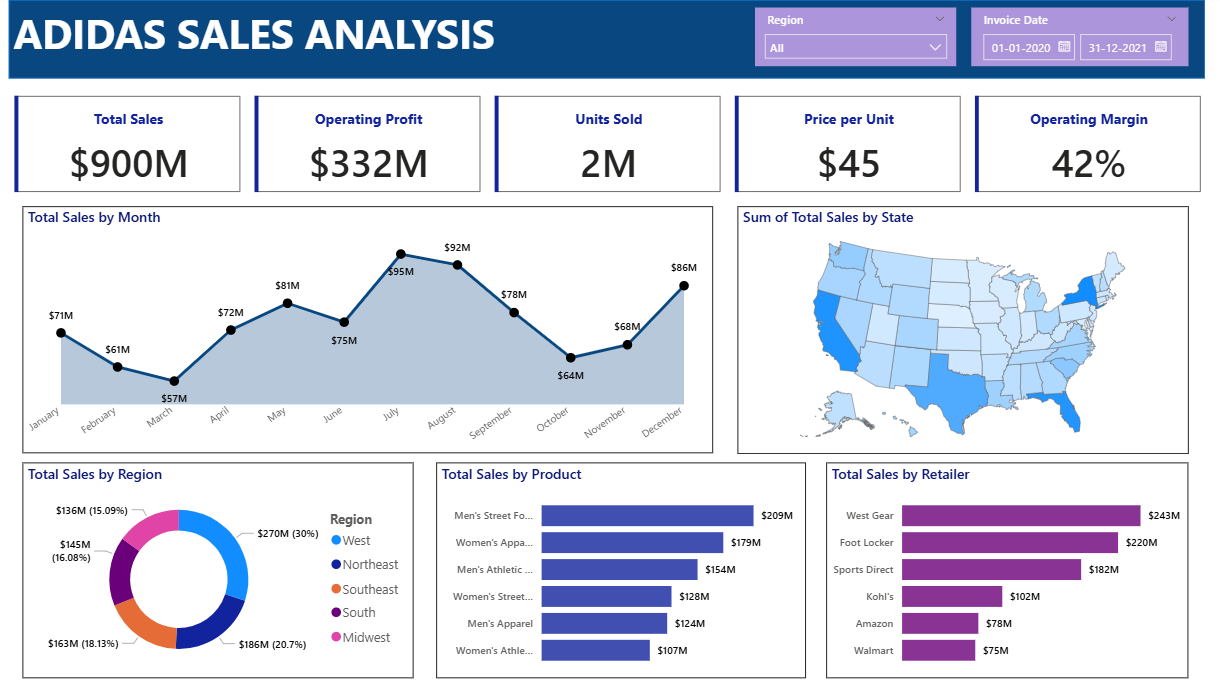

This screenshot's page, from the dashboard's own definition file:
{"tool":"powerbi","page":{"name":"Page 1","canvas":[1280,720],"ordinal":0},"visuals":[{"type":"shape","box":[9.6,0,1255.6,82.3],"z":0},{"type":"textbox","box":[9.6,0,628.5,70],"z":1000},{"type":"cardVisual","fields":{"Data":["Sum(Data Sales Adidas.Total Sales)","Sum(Data Sales Adidas.Operating Profit)","Sum(Data Sales Adidas.Units Sold)","Avg(Data Sales Adidas.Price per Unit)","Avg(Data Sales Adidas.Operating Margin)"]},"box":[11,96.1,1255.6,111.1],"z":2000},{"type":"areaChart","title":"Total Sales by Month","fields":{"Category":["Data Sales Adidas.Invoice Date.Variation.Date Hierarchy.Month"],"Y":["Sum(Data Sales Adidas.Total Sales)"]},"box":[23.3,216.8,724.5,259.3],"z":3000},{"type":"donutChart","title":" Total Sales by Region","fields":{"Category":["Data Sales Adidas.Region"],"Y":["Sum(Data Sales Adidas.Total Sales)"]},"box":[23.3,485.8,410,226],"z":5000},{"type":"barChart","title":" Total Sales by Product","fields":{"Category":["Data Sales Adidas.Product"],"Y":["Sum(Data Sales Adidas.Total Sales)"]},"box":[458.3,485.8,388.3,226.4],"z":6000},{"type":"barChart","title":" Total Sales by Retailer","fields":{"Y":["Sum(Data Sales Adidas.Total Sales)"],"Category":["Data Sales Adidas.Retailer"]},"box":[867.2,485.8,380.1,226.4],"z":7000},{"type":"slicer","fields":{"Values":["Data Sales Adidas.Region"]},"box":[791.8,8.2,211.3,61.7],"z":8000},{"type":"slicer","fields":{"Values":["Data Sales Adidas.Invoice Date"]},"box":[1019.6,8.2,227.8,61.7],"z":9000},{"type":"shapeMap","fields":{"Category":["Data Sales Adidas.State"],"Value":["Sum(Data Sales Adidas.Total Sales)"]},"box":[774.1,216.5,473.6,259.8],"z":9001}]}

Visuals, with their boxes in screenshot pixels (x1, y1, x2, y2), scaled from the page's 1280x720 canvas onto the 1220x685 screenshot:
shape: {"left": 9, "top": 0, "right": 1206, "bottom": 78}
textbox: {"left": 9, "top": 0, "right": 608, "bottom": 67}
cardVisual - Sum(Data Sales Adidas.Total Sales) x Sum(Data Sales Adidas.Operating Profit): {"left": 10, "top": 91, "right": 1207, "bottom": 197}
"Total Sales by Month" areaChart: {"left": 22, "top": 206, "right": 713, "bottom": 453}
" Total Sales by Region" donutChart: {"left": 22, "top": 462, "right": 413, "bottom": 677}
" Total Sales by Product" barChart: {"left": 437, "top": 462, "right": 807, "bottom": 678}
" Total Sales by Retailer" barChart: {"left": 827, "top": 462, "right": 1189, "bottom": 678}
slicer - Data Sales Adidas.Region: {"left": 755, "top": 8, "right": 956, "bottom": 67}
slicer - Data Sales Adidas.Invoice Date: {"left": 972, "top": 8, "right": 1189, "bottom": 67}
shapeMap - Data Sales Adidas.State x Sum(Data Sales Adidas.Total Sales): {"left": 738, "top": 206, "right": 1189, "bottom": 453}
